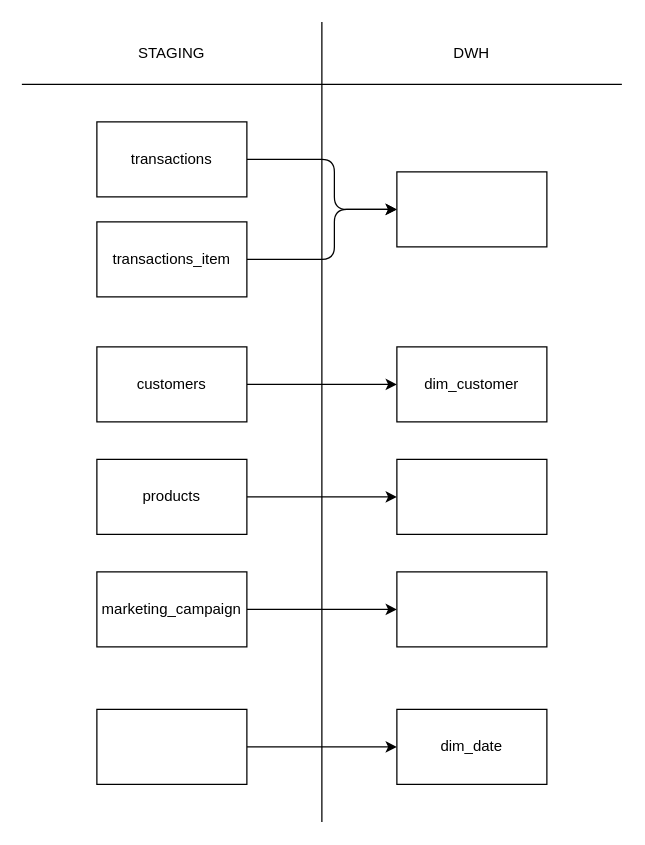
The diagram is 645 pixels wide and 845 high, and some of its shapes have lost their labels. Each missing label, with the box of its shape:
date/calendar: (96, 708, 247, 784)
dim_campaign: (396, 571, 547, 647)
dim_product: (396, 458, 547, 534)
fact_sales: (396, 171, 547, 247)
